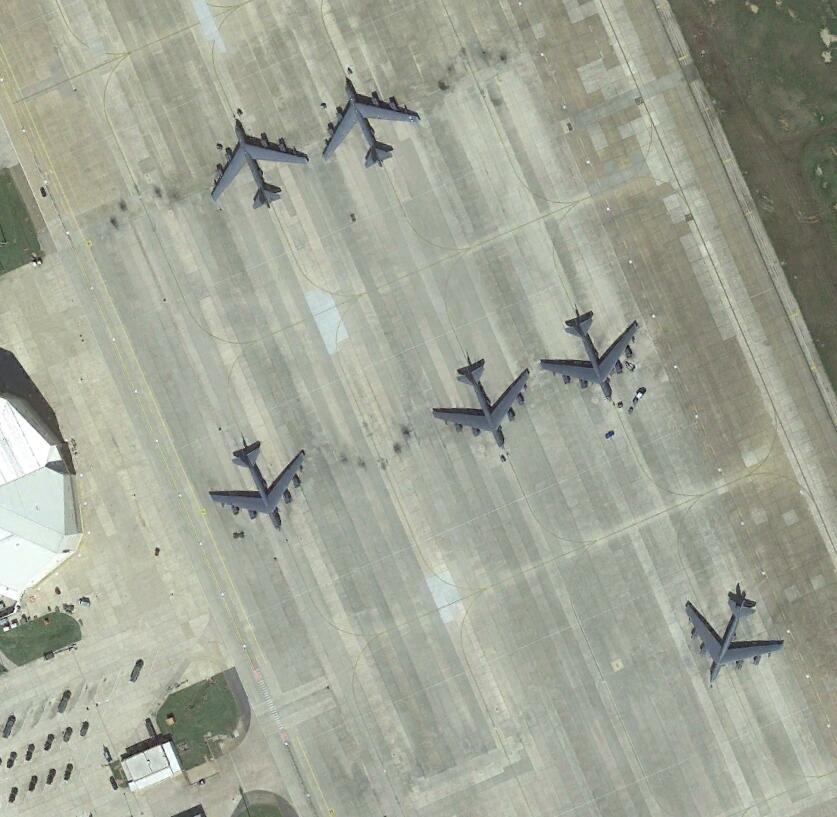A8: (677, 583, 788, 689), (424, 349, 533, 452), (204, 116, 314, 216), (206, 432, 312, 533), (538, 304, 642, 406), (318, 76, 422, 173)
